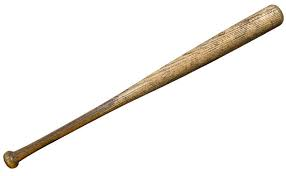baseball bat: (2, 4, 284, 170)
